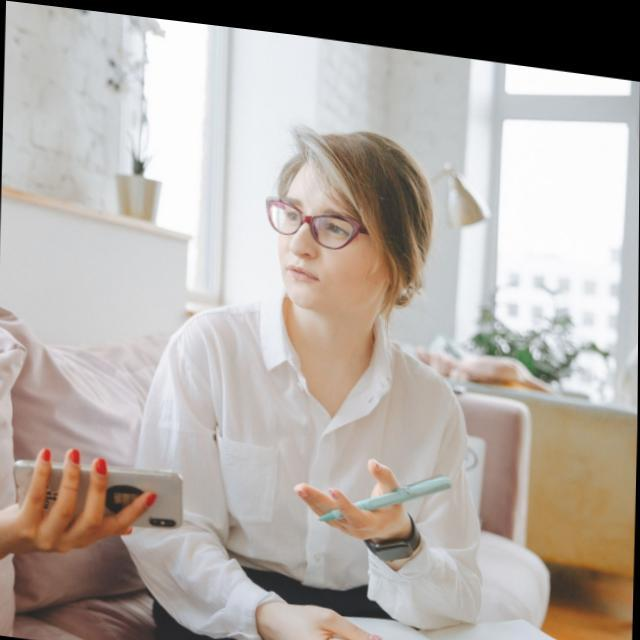Nonhelmet: (264, 122, 436, 320)
